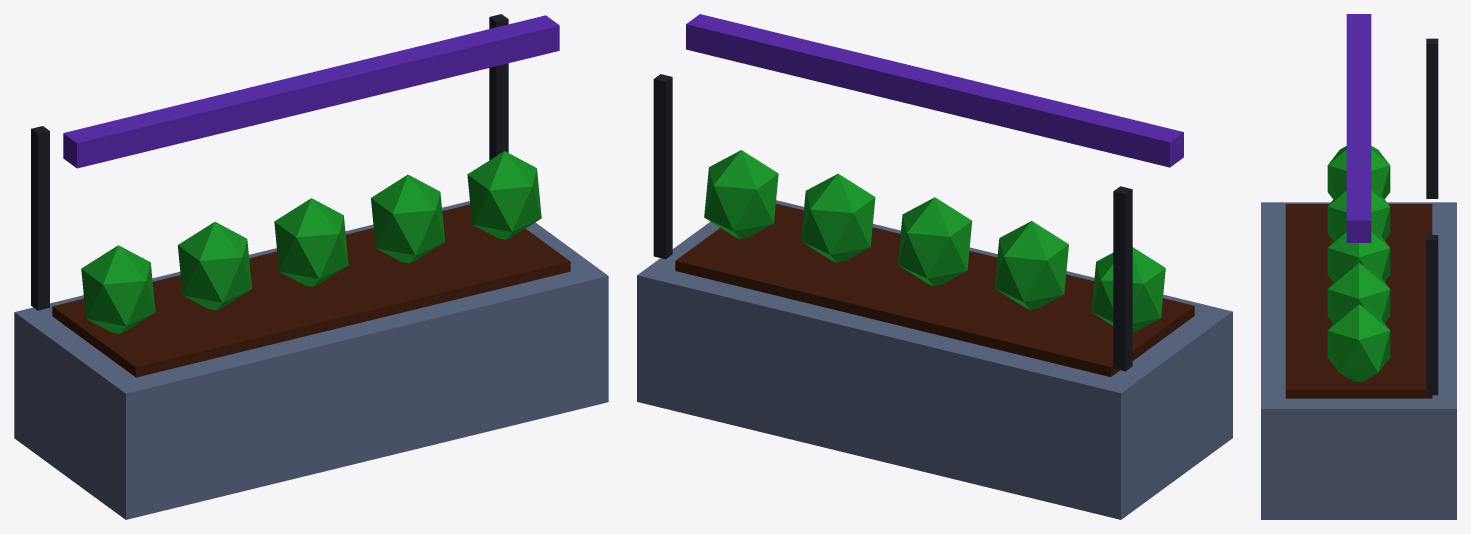
The model's file is hydroponic_planter.obj.
The picture shows the model from 3 angles, left to right: view 1: azimuth 30°, elevation 25°; view 2: azimuth 150°, elevation 25°; view 3: azimuth 270°, elevation 25°; orthographic projection. The views are drawn at different scales.
Parts seen in each view (by area): view 1: hydroponic_planter; view 2: hydroponic_planter; view 3: hydroponic_planter.
Part boxes in pixels (x1=…): hydroponic_planter: x1=14, y1=14, x2=608, y2=519; hydroponic_planter: x1=637, y1=14, x2=1232, y2=519; hydroponic_planter: x1=1261, y1=14, x2=1456, y2=519.
Size of the model in its own units: 2 by 1.35 by 0.8.
